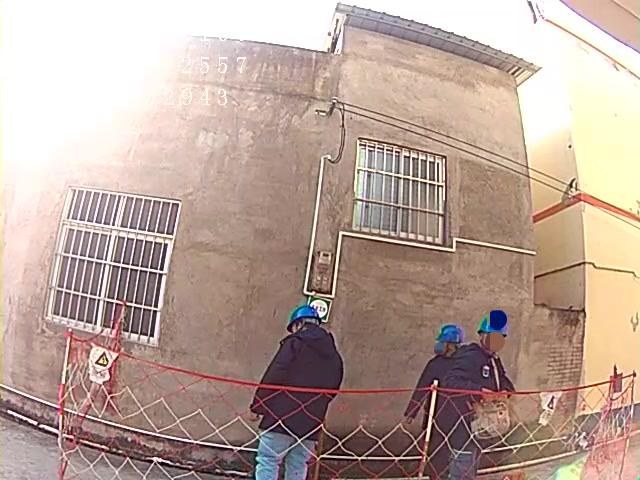halt: (479, 315, 513, 352), (438, 327, 468, 358), (290, 309, 323, 336)
